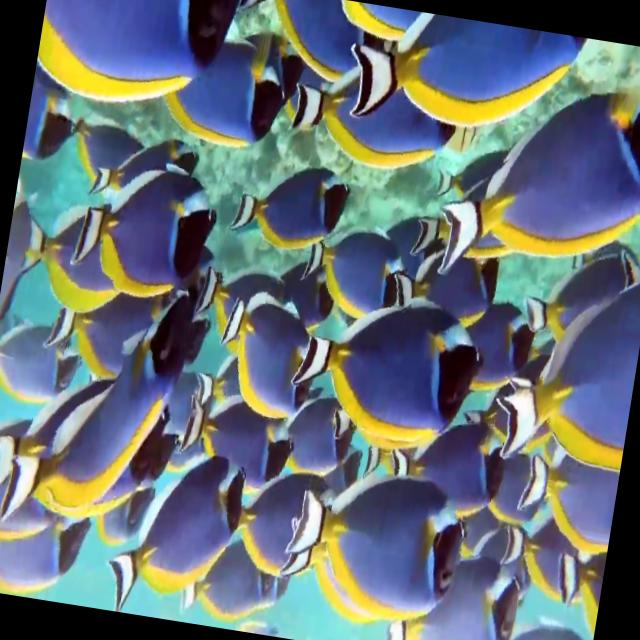fish: (0, 266, 204, 564), (430, 57, 640, 310), (278, 270, 498, 458), (339, 2, 583, 138), (277, 464, 475, 630), (97, 441, 252, 629), (495, 282, 640, 476), (31, 0, 240, 126), (138, 29, 296, 188), (70, 155, 230, 312), (190, 268, 328, 440), (278, 74, 441, 194), (494, 449, 620, 565), (383, 545, 532, 640), (184, 387, 300, 500), (226, 170, 353, 270), (267, 382, 368, 500), (0, 307, 96, 426), (0, 501, 102, 607), (250, 0, 368, 91), (166, 535, 270, 634), (452, 303, 542, 417), (491, 512, 578, 618), (304, 227, 398, 321), (18, 68, 82, 190), (545, 550, 606, 640)
